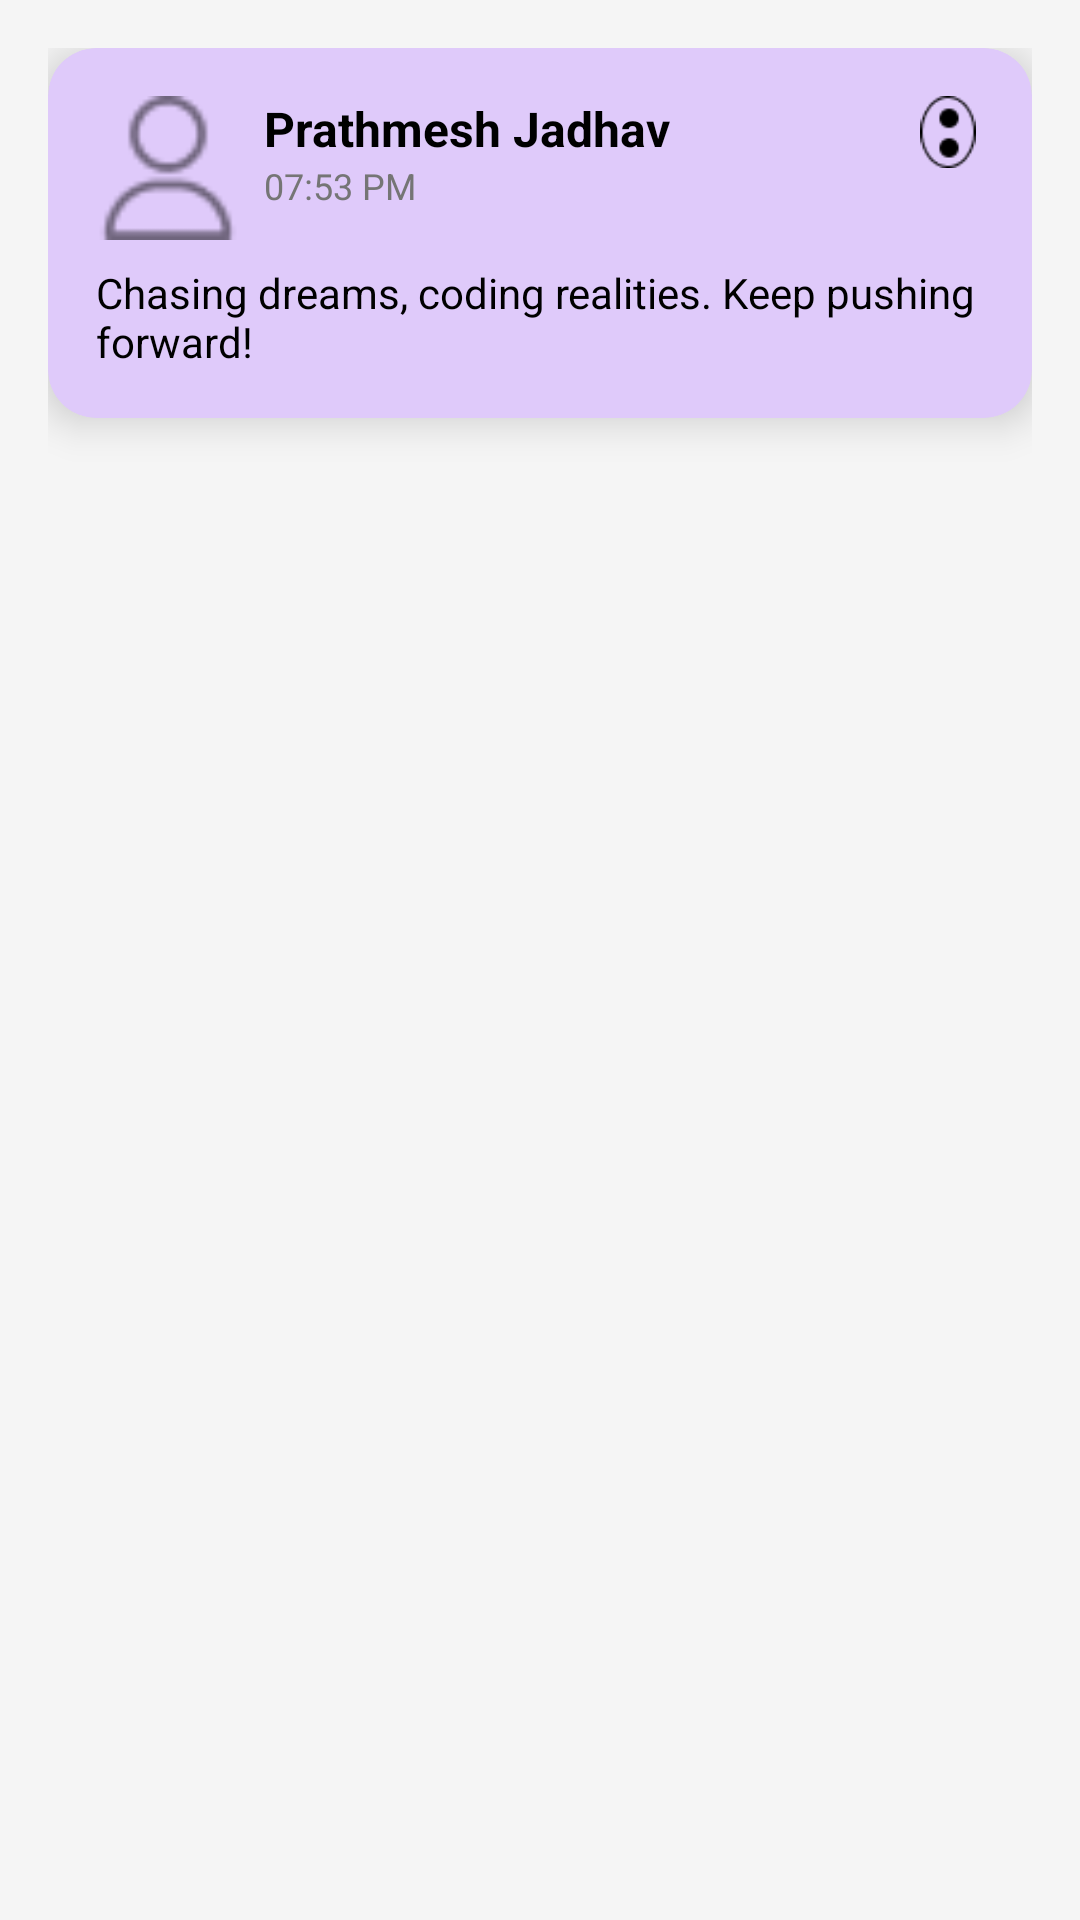

Icons on this 1080*1920 Android screen, each with its box as (x1, y1, x2, y2):
two dot: (920, 96, 976, 168)
user profile: (104, 96, 232, 240)
